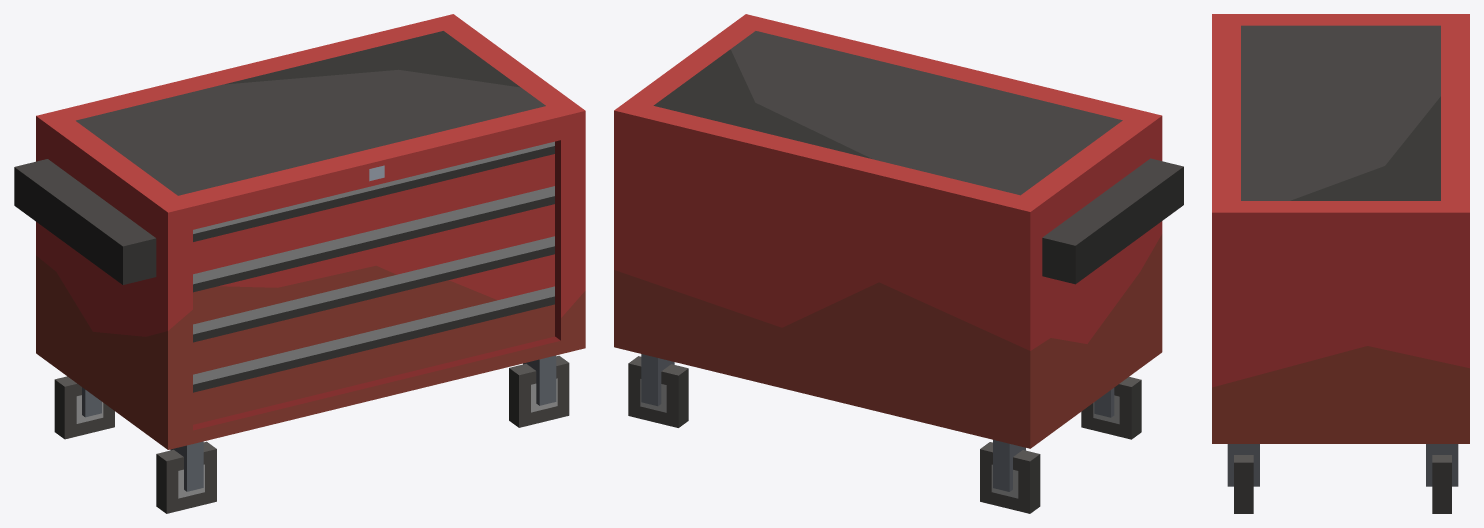
The model's file is AI_Prop_ToolCart.fbx.
The picture shows the model from 3 angles, left to right: view 1: azimuth 30°, elevation 25°; view 2: azimuth 150°, elevation 25°; view 3: azimuth 270°, elevation 25°; orthographic projection. The views are drawn at different scales.
Parts seen in each view (by area): view 1: AI_Prop_ToolCart; view 2: AI_Prop_ToolCart; view 3: AI_Prop_ToolCart.
Boxes of the visible parts, left/top/right/bottom form: AI_Prop_ToolCart: left=14, top=14, right=585, bottom=513; AI_Prop_ToolCart: left=614, top=14, right=1183, bottom=513; AI_Prop_ToolCart: left=1212, top=14, right=1469, bottom=513.
Size of the model in its own units: 2.07 by 1.37 by 1.05.
